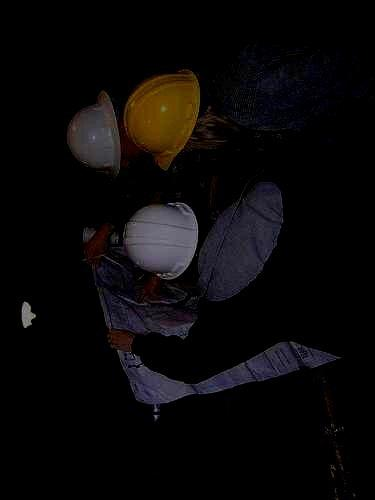helmet: (123, 68, 234, 170), (120, 201, 199, 281), (64, 91, 122, 179)
